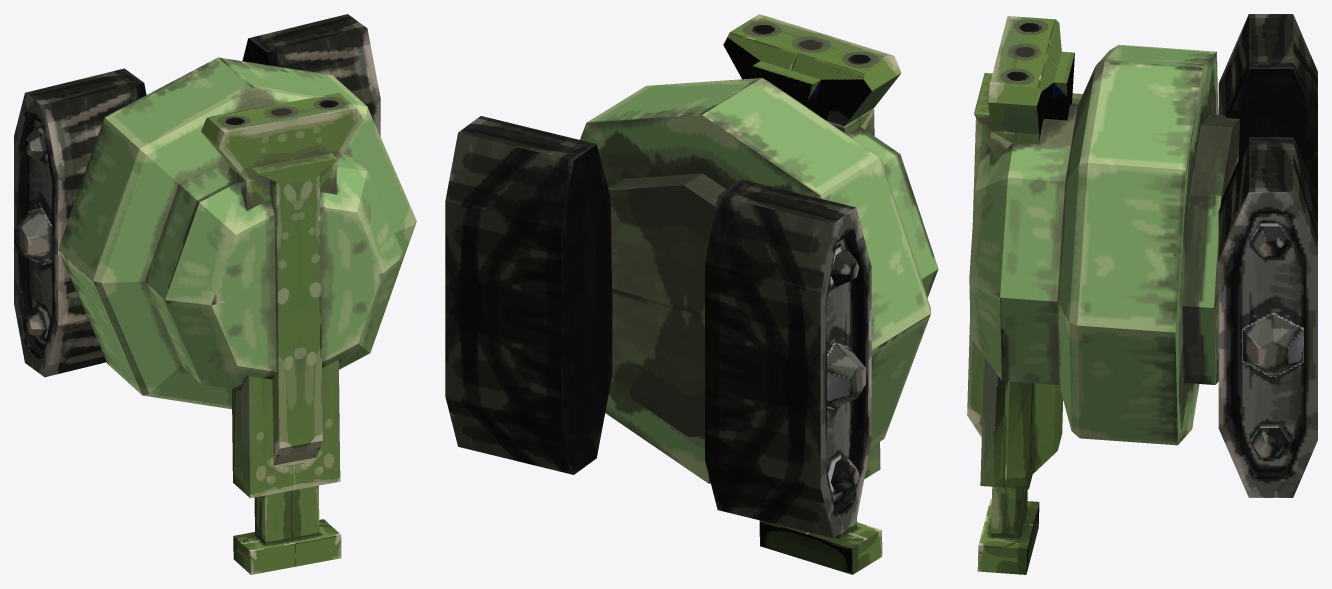
Rendered from _turret.glb.
The picture shows the model from 3 angles, left to right: view 1: azimuth 30°, elevation 25°; view 2: azimuth 150°, elevation 25°; view 3: azimuth 270°, elevation 25°; orthographic projection. The views are drawn at different scales.
Parts seen in each view (by area): view 1: Turret, Cannon, Wheels; view 2: Wheels, Turret, Cannon; view 3: Turret, Wheels, Cannon.
Part boxes in pixels (x1,y1,x2,y2): Turret: [58, 57, 416, 409]; Cannon: [201, 93, 363, 574]; Wheels: [14, 14, 380, 377]; Wheels: [445, 116, 871, 538]; Turret: [580, 78, 938, 483]; Cannon: [723, 14, 901, 574]; Turret: [969, 44, 1239, 445]; Wheels: [1218, 14, 1317, 497]; Cannon: [967, 16, 1074, 574].
Bounding box in the file's own units: 6.9 × 8.38 × 5.33.
3 materials, 3 textured.
